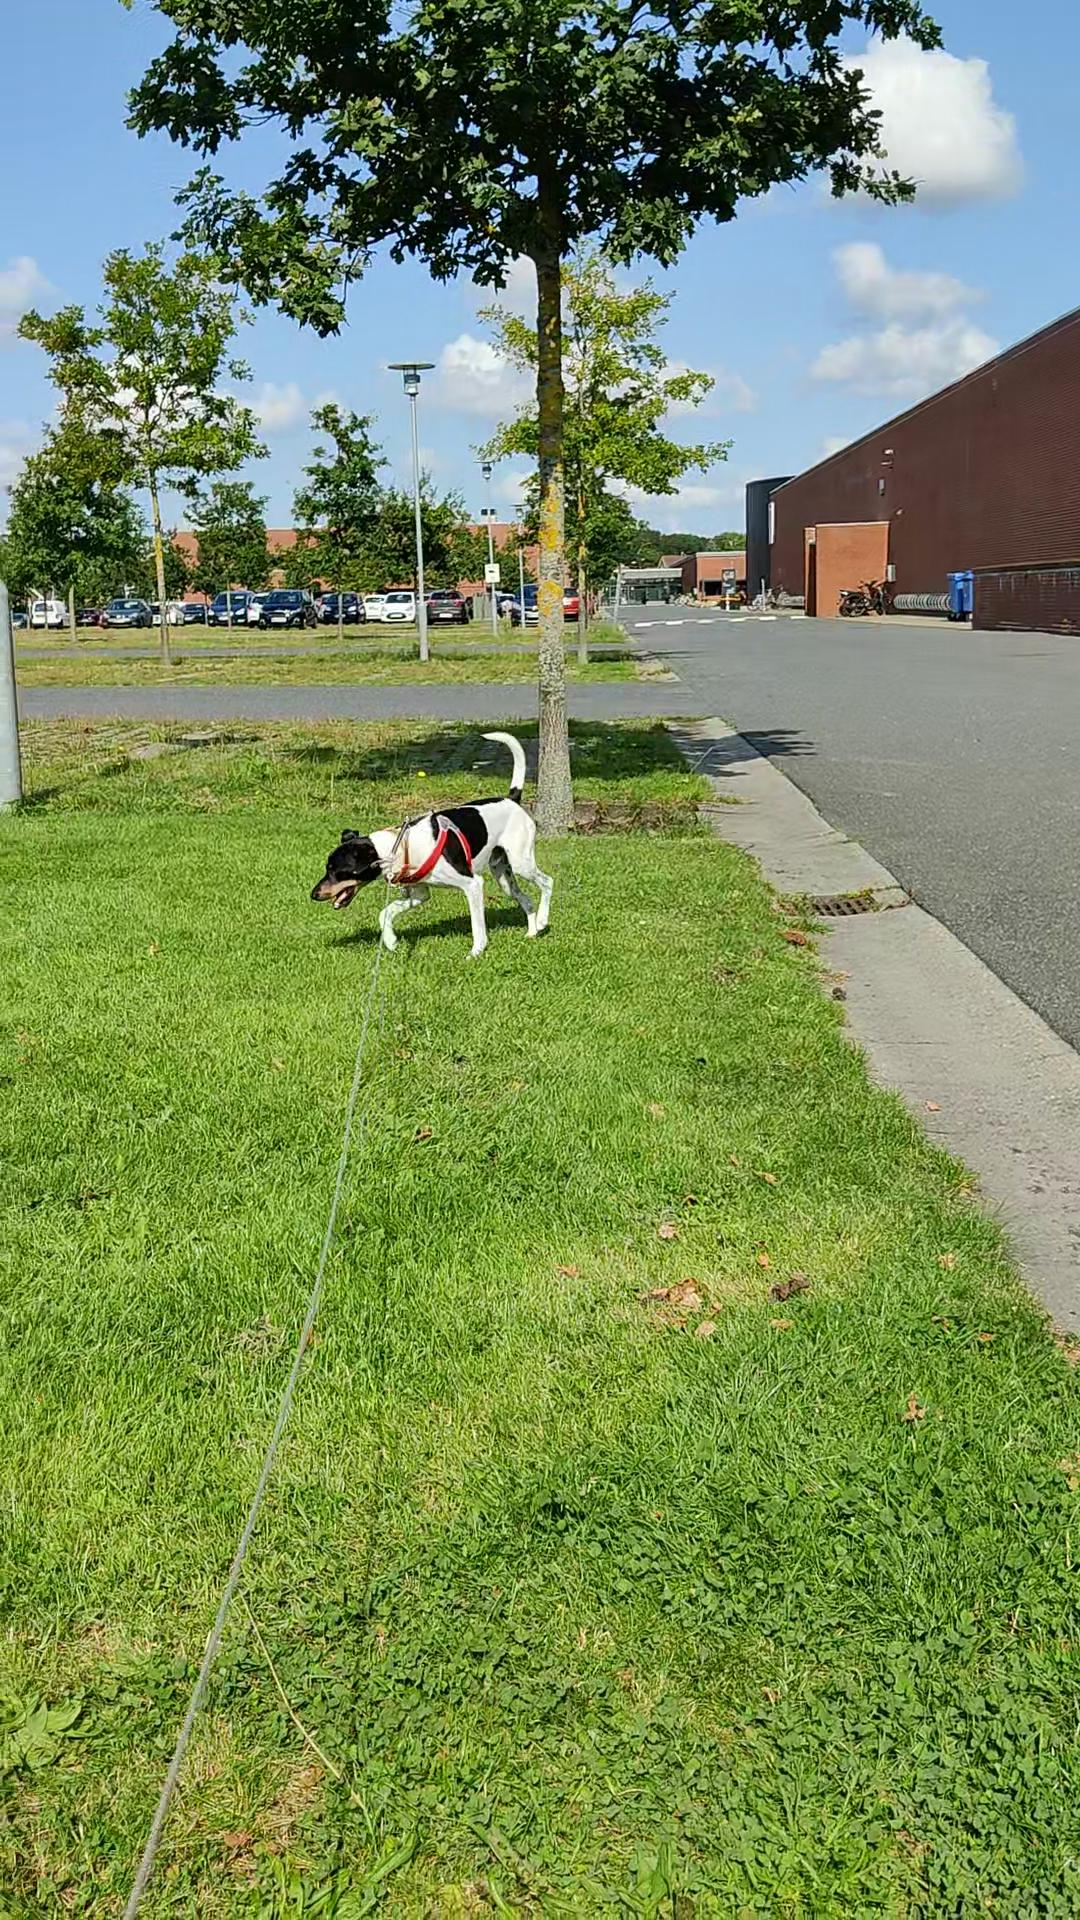Dog: (303, 727, 566, 959)
